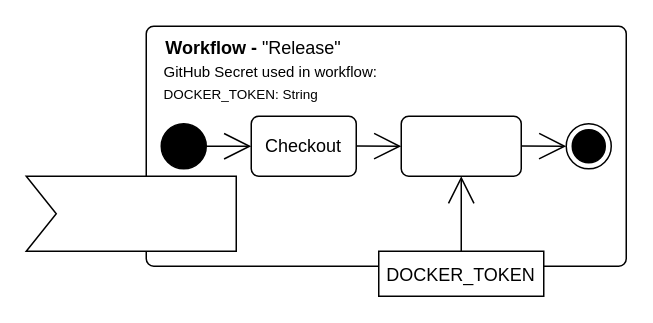
This 653x323 diagram has some shape labels left out. Each missing label, with the centre of its shape:
Create draft release: pixel 460 145
on pushing tags with pattern "v*.*.*": pixel 130 213
